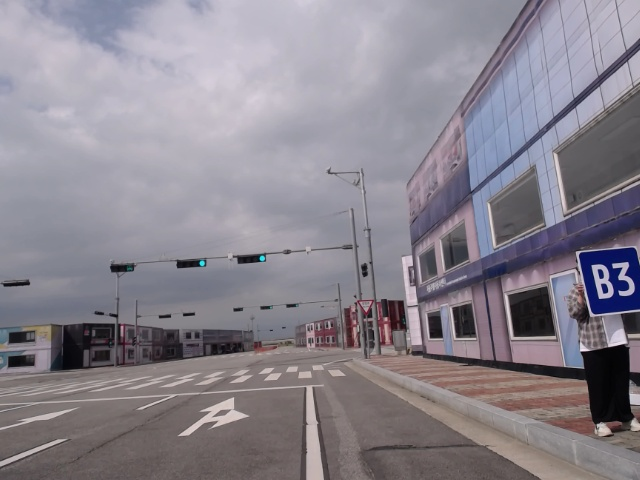delivery_b3: (575, 249, 639, 319)
straight_green_4: (174, 255, 209, 270), (234, 252, 269, 266), (258, 304, 276, 312), (286, 301, 301, 309)
